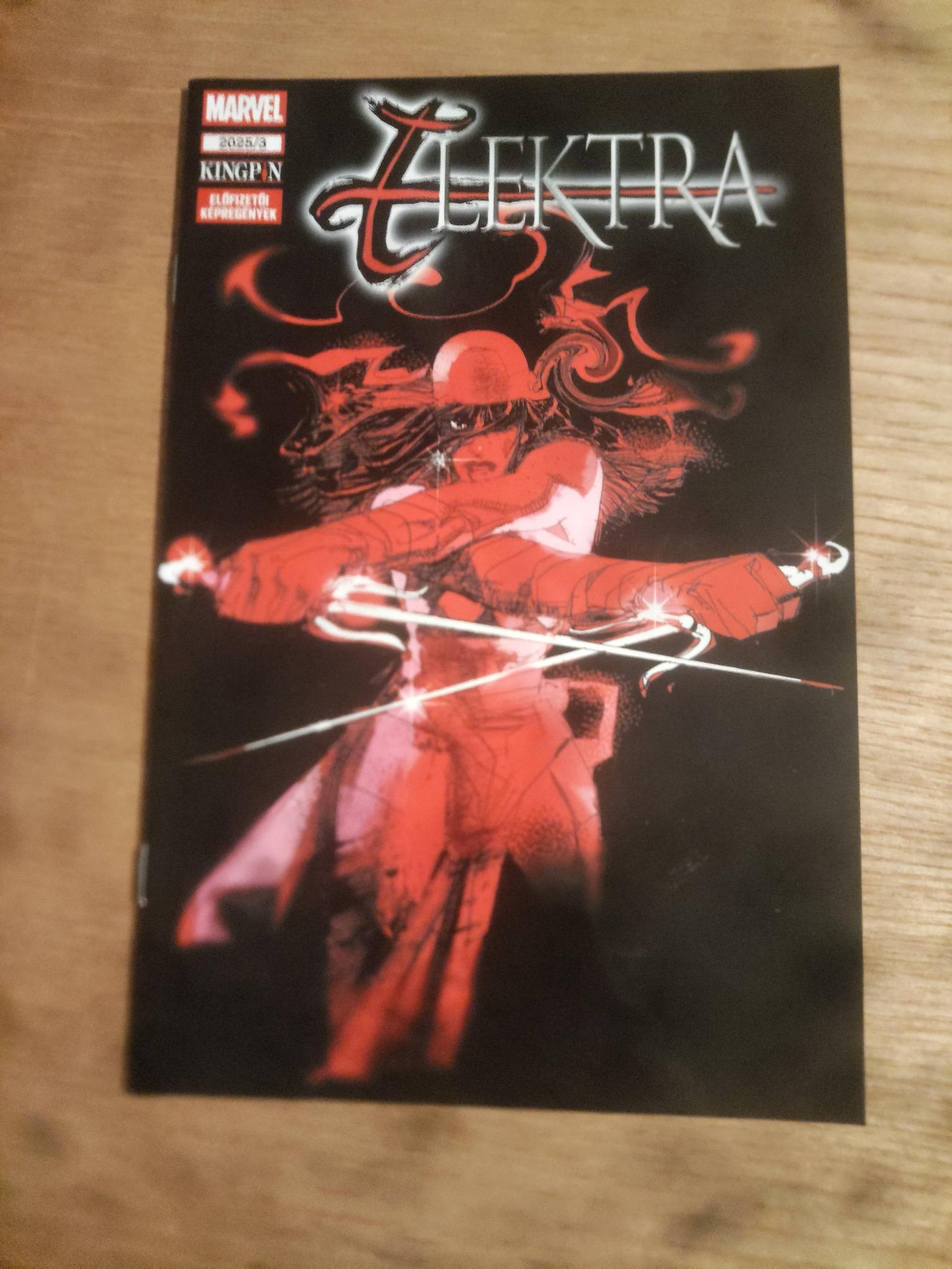comic: (128, 42, 906, 1121)
